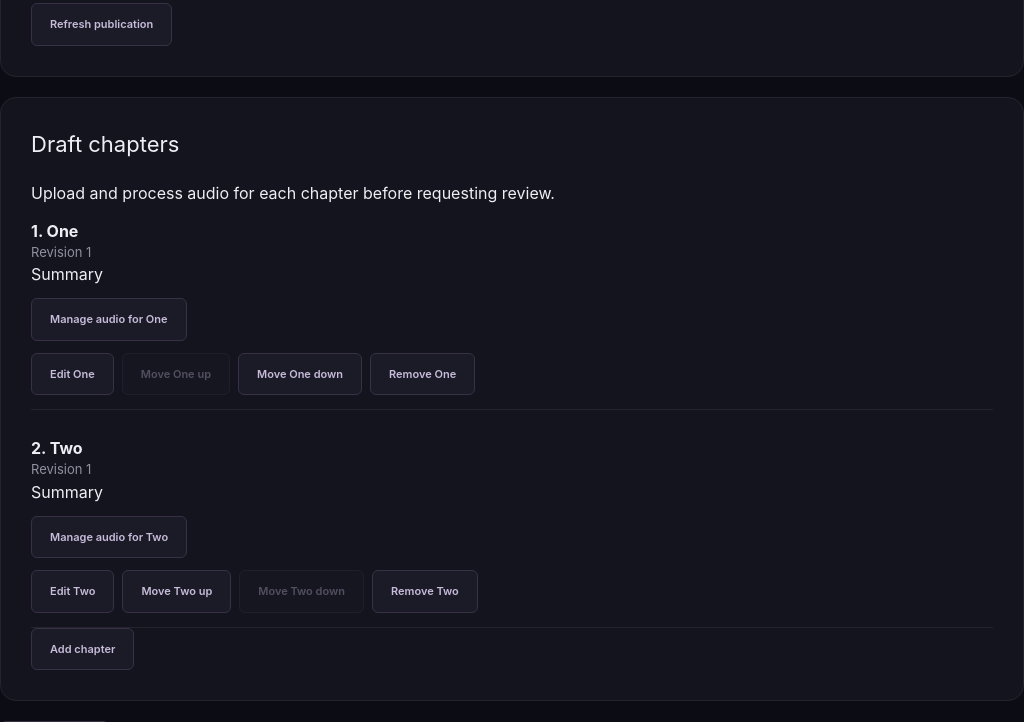
reorders chapters with a parent guard and confirms soft removal without losing other edits
The image size is (1024, 722).
(page scrolled)
Click the button "Move Two up": point(177, 591) [122,570,231,612]
(page scrolled)
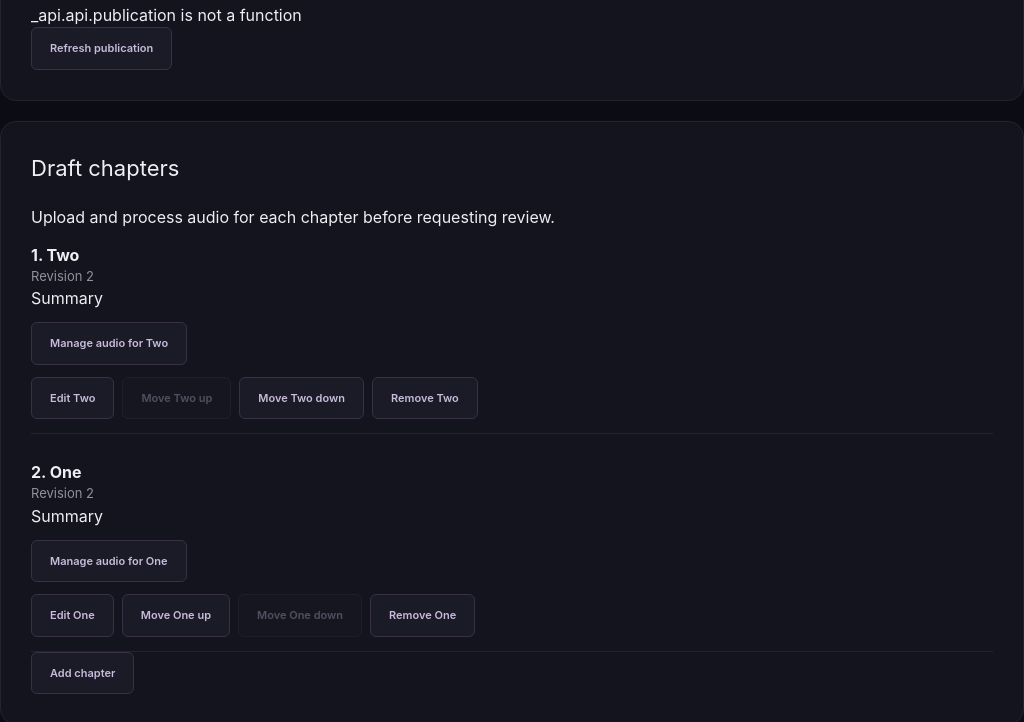
Click the button "Remove One": point(423, 615) [370,594,475,636]
(page scrolled)
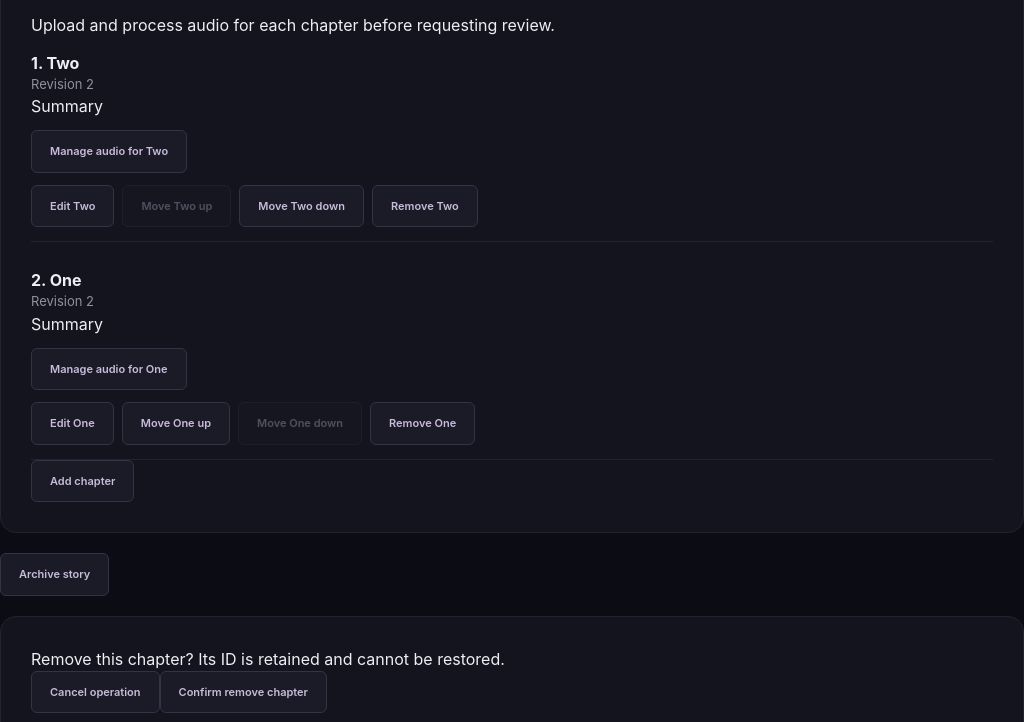
Click the button "Cancel operation": point(95, 692) [31,670,160,713]
(page scrolled)
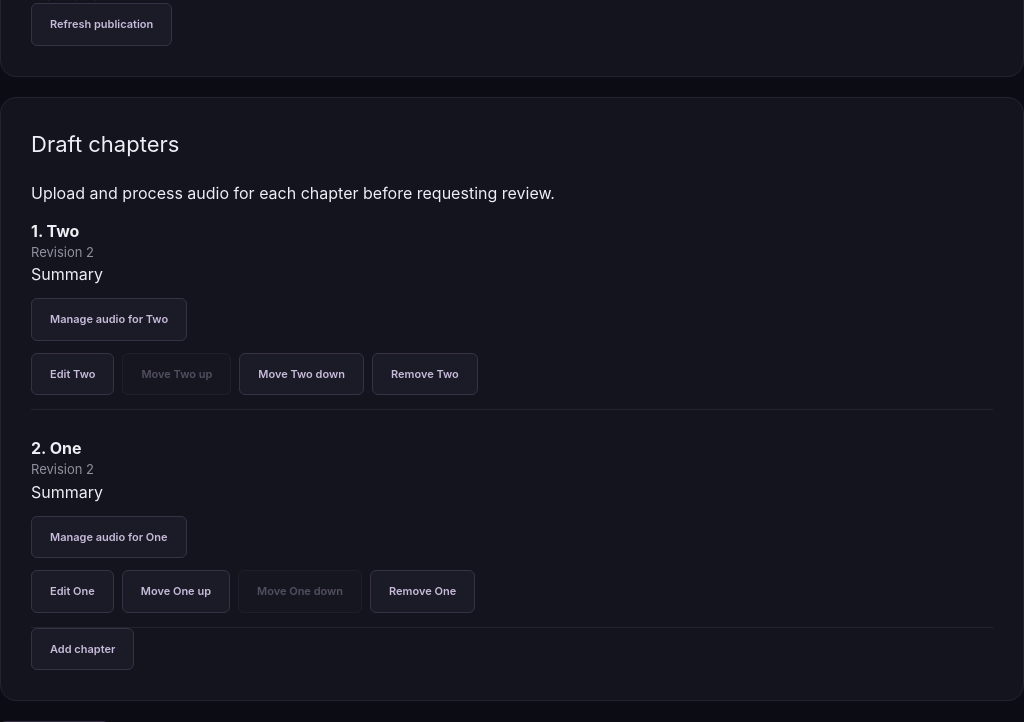
Click the button "Remove One": point(423, 591) [370,570,475,612]
(page scrolled)
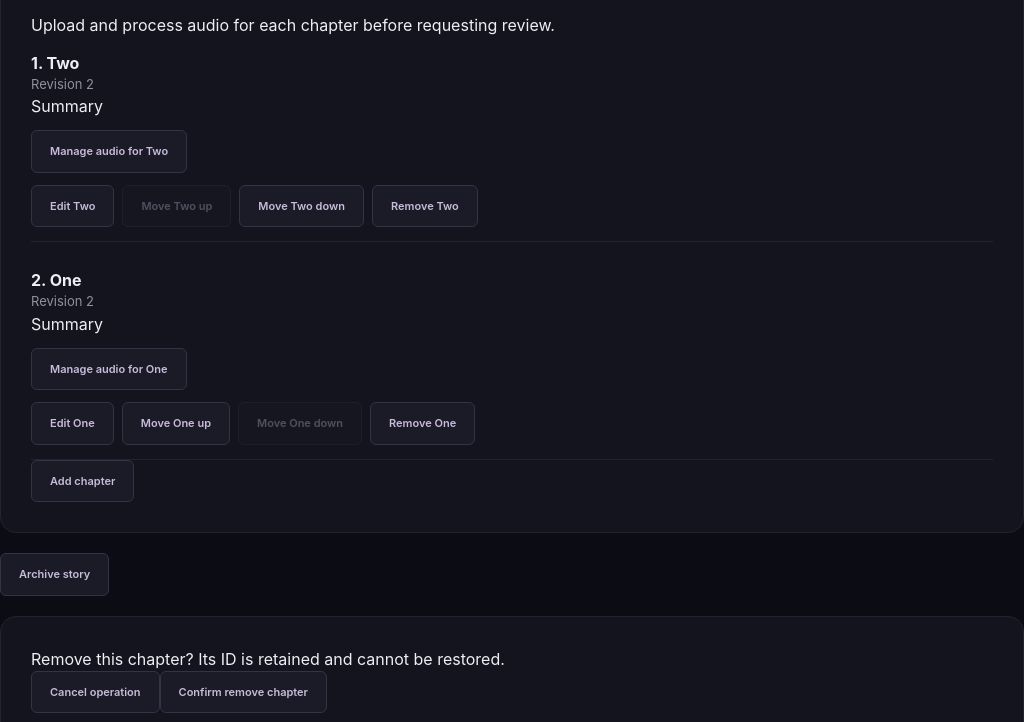
Click the button "Confirm remove chapter": point(243, 692) [160,670,327,713]
(page scrolled)
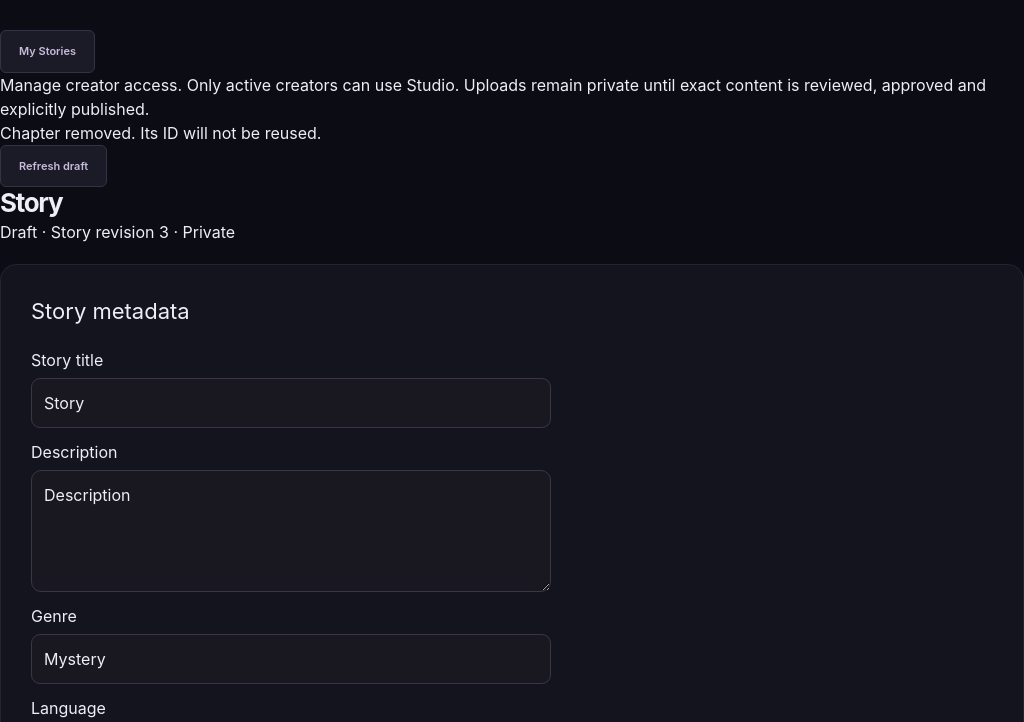
Expected: the text "Chapter removed. Its ID will not be reused." is shown, [0,122,321,142]
